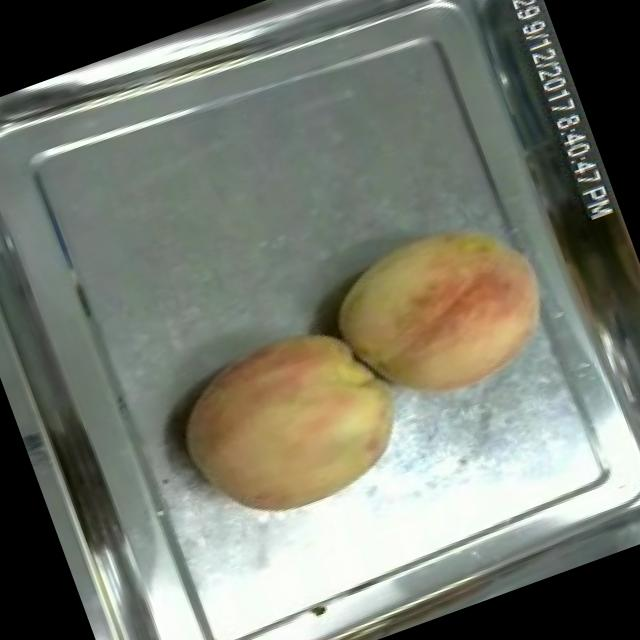Fruit: (154, 298, 425, 546), (308, 192, 574, 434)
